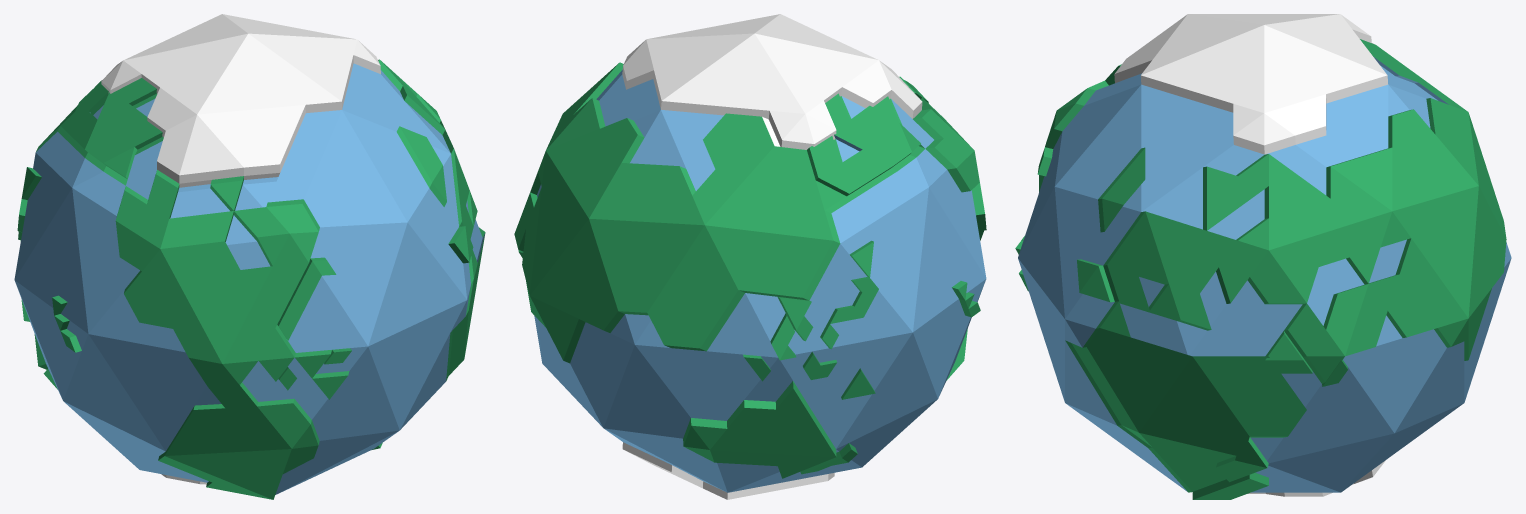
File: ExportedBlenderFBXFile.fbx
3 renders of one model, left to right at view 1: azimuth 30°, elevation 25°; view 2: azimuth 150°, elevation 25°; view 3: azimuth 270°, elevation 25°, orthographic. The views are drawn at different scales.
Parts seen in each view (by area): view 1: Icosphere; view 2: Icosphere; view 3: Icosphere.
Part boxes in pixels (x1=…): Icosphere: x1=14, y1=14, x2=485, y2=499; Icosphere: x1=514, y1=14, x2=986, y2=499; Icosphere: x1=1015, y1=14, x2=1511, y2=499.
Size of the model in its own units: 1.96 by 2.07 by 2.01.
